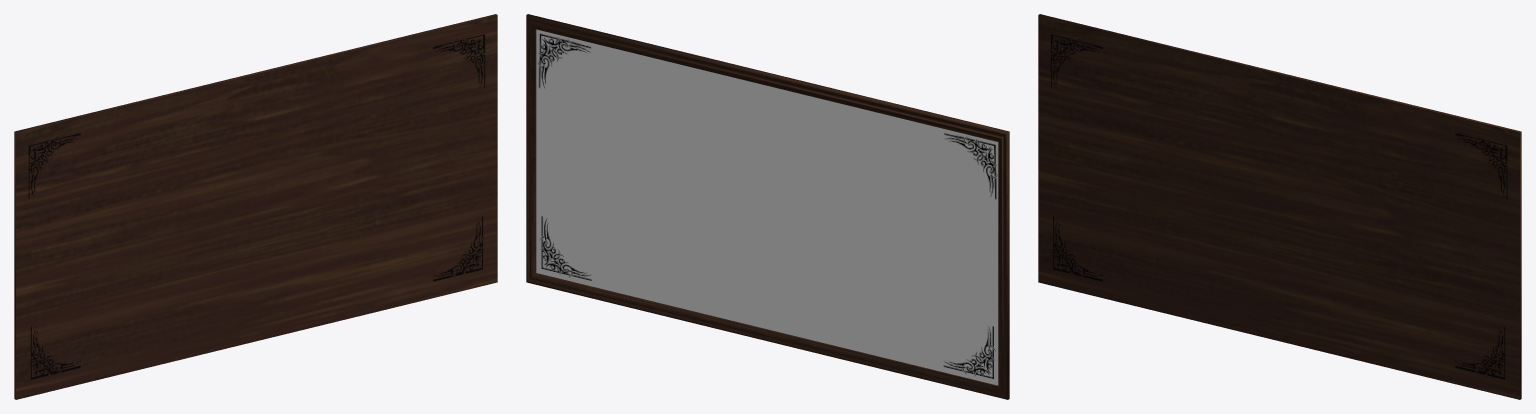
File: mirror.fbx
3 views of the same model, side by side, from view 1: azimuth 30°, elevation 25°; view 2: azimuth 150°, elevation 25°; view 3: azimuth 330°, elevation 25° (orthographic).
Visible parts, largest first — view 1: mirror; view 2: mirror; view 3: mirror.
Boxes of the visible parts, x1,y1,x2,y2 form: mirror: (14,14,497,399); mirror: (526,14,1009,399); mirror: (1038,14,1521,399).
Bounding box in the file's own units: 151 × 79.94 × 1.51.
